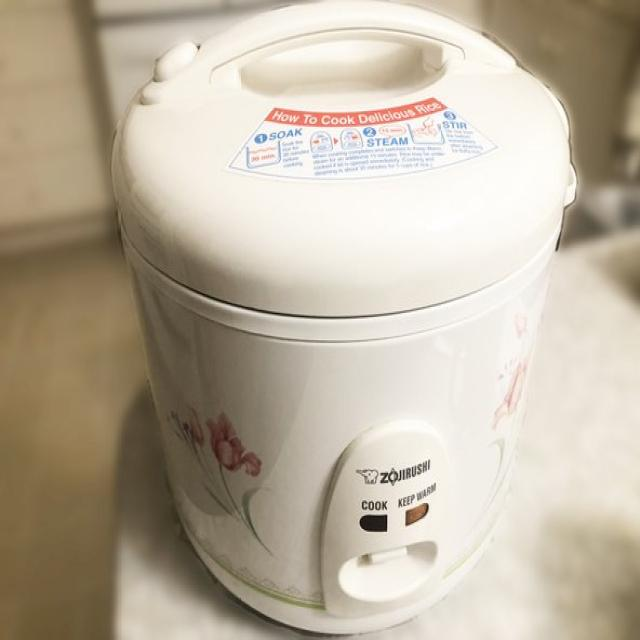appliances: (114, 0, 574, 631)
